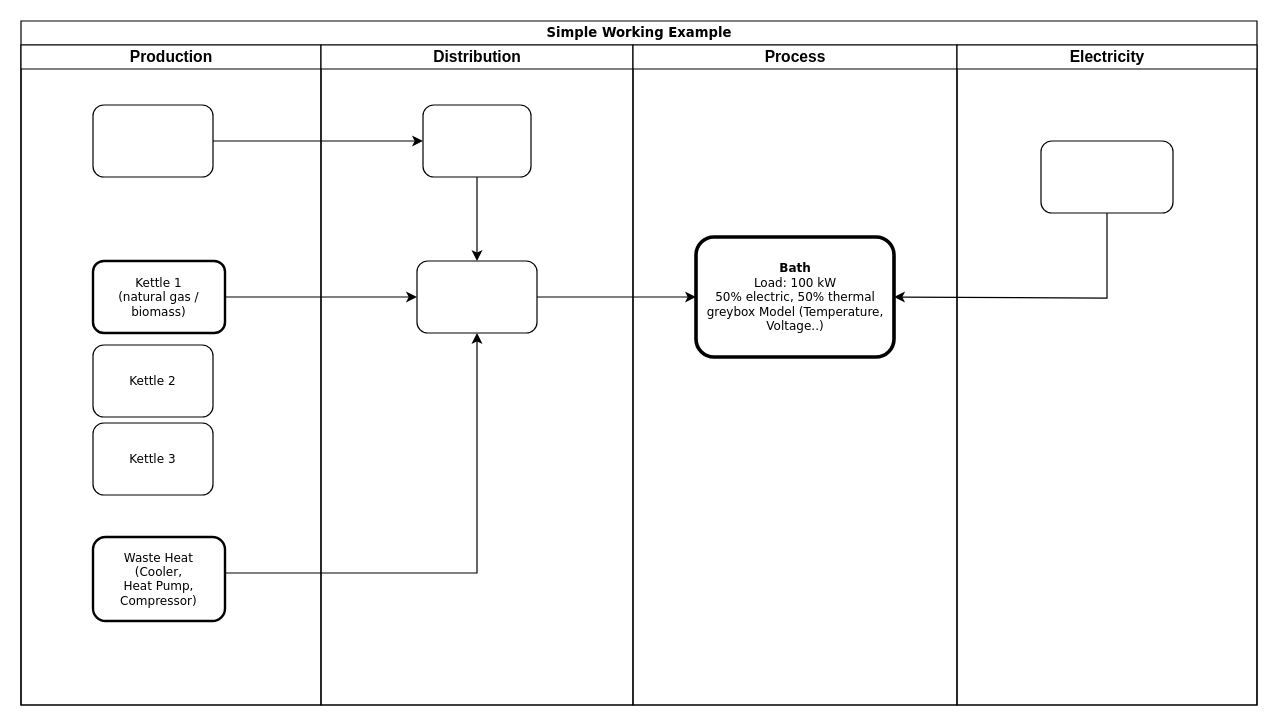
This 1278x726 diagram has some shape labels left out. The shapes that lost their labels are listed below. From the top down, each one's centre as x and y in pixels, then its label:
pixel 152 140: Solar Heat
pixel 476 140: Storage
pixel 1106 176: Electrical Load: ~50 kW
pixel 476 296: Distribution (losses e.g. 5%)
